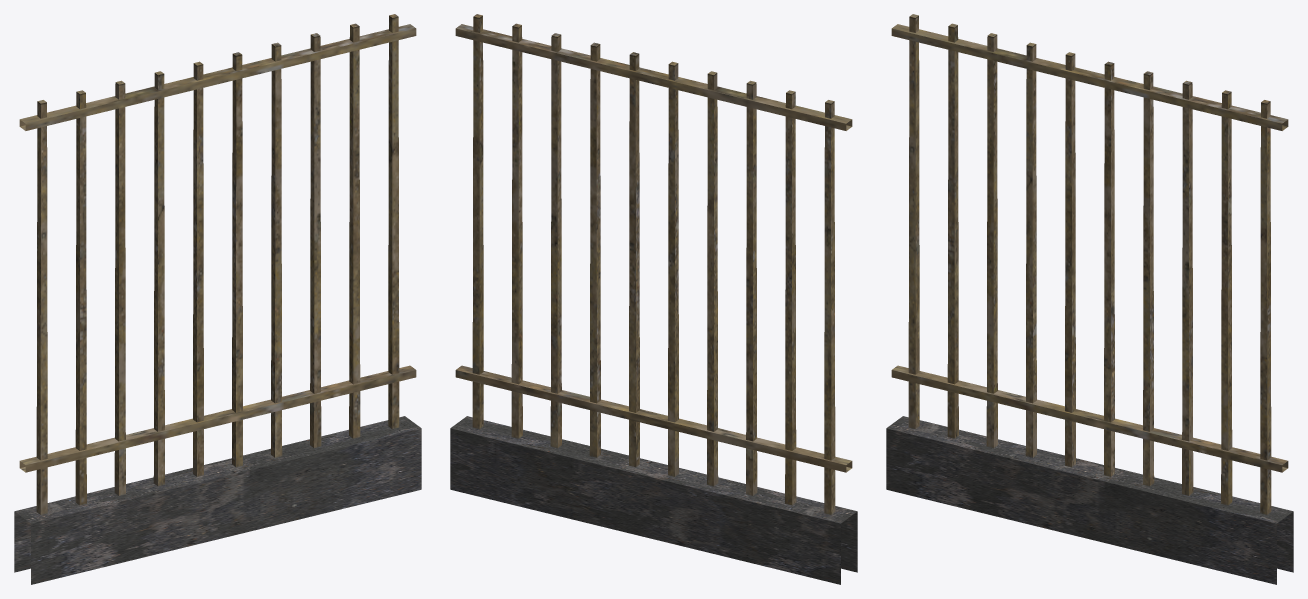
Rendered from Ringhiera2M.fbx.
3 views of the same model, side by side, from view 1: azimuth 30°, elevation 25°; view 2: azimuth 150°, elevation 25°; view 3: azimuth 330°, elevation 25° (orthographic).
Parts seen in each view (by area): view 1: Plane.002; view 2: Plane.002; view 3: Plane.002.
Part boxes in pixels (x1,y1,x2,y2): Plane.002: (14,14,421,584); Plane.002: (450,14,857,584); Plane.002: (886,14,1293,584).
Bounding box in the file's own units: 200 × 231 × 14.9.
